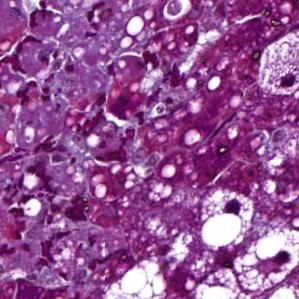ballooning: (233, 224, 299, 292), (198, 186, 256, 252), (257, 28, 299, 97), (104, 257, 169, 296)
